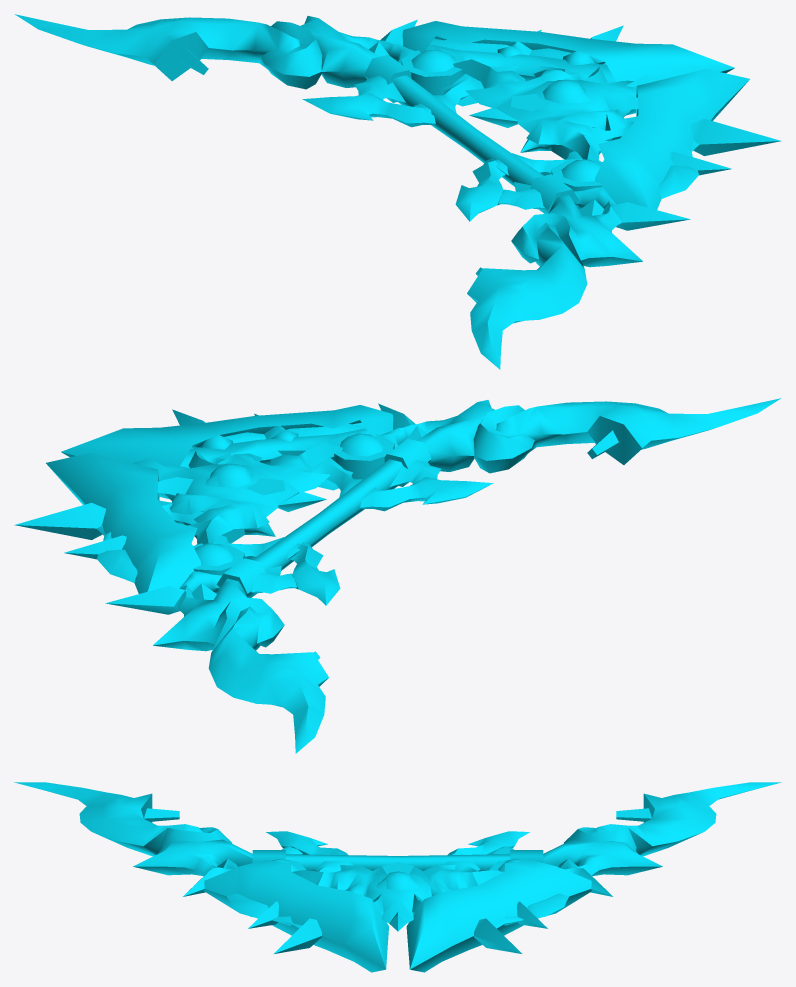
The model's file is efx_scm_silver_bow_e_w_eff.glb.
3 views of the same model, one above another, from view 1: azimuth 30°, elevation 25°; view 2: azimuth 150°, elevation 25°; view 3: azimuth 270°, elevation 25° (orthographic). The views are drawn at different scales.
Size of the model in its own units: 1.2 by 0.1607 by 2.09.
